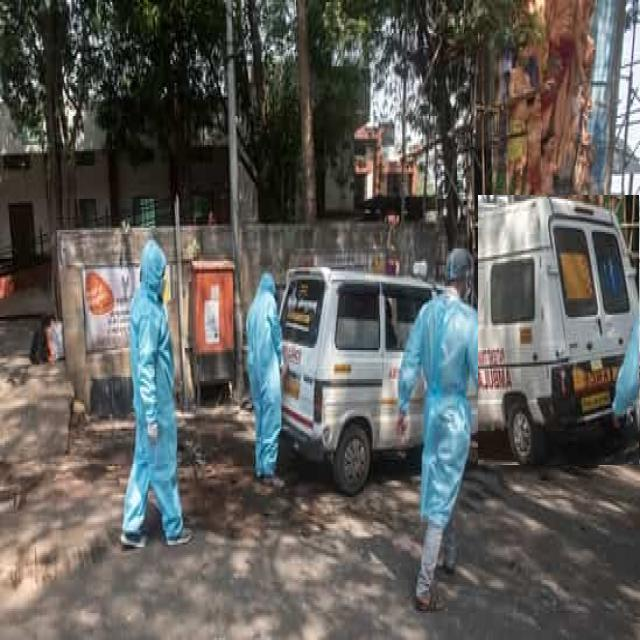emergency: (479, 196, 639, 465), (280, 267, 438, 494)
